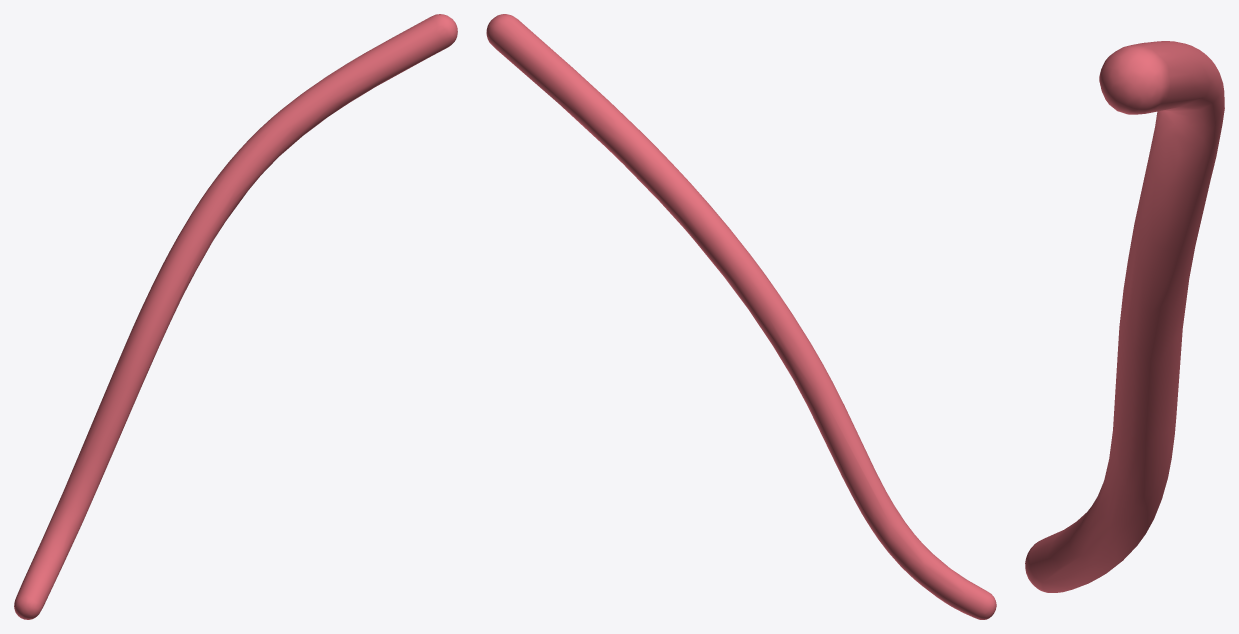
File: fma69490_fj2163.glb
3 views of the same model, side by side, from view 1: azimuth 30°, elevation 25°; view 2: azimuth 150°, elevation 25°; view 3: azimuth 270°, elevation 25° (orthographic). The views are drawn at different scales.
Visible parts, largest first — view 1: FMA69490_FJ2163; view 2: FMA69490_FJ2163; view 3: FMA69490_FJ2163.
Boxes of the visible parts, box(x1,y1,x2,y2) form: FMA69490_FJ2163: box(14, 14, 457, 619); FMA69490_FJ2163: box(486, 14, 996, 619); FMA69490_FJ2163: box(1025, 41, 1224, 592).
Size of the model in its own units: 0.0448 by 0.0448 by 0.00842.
